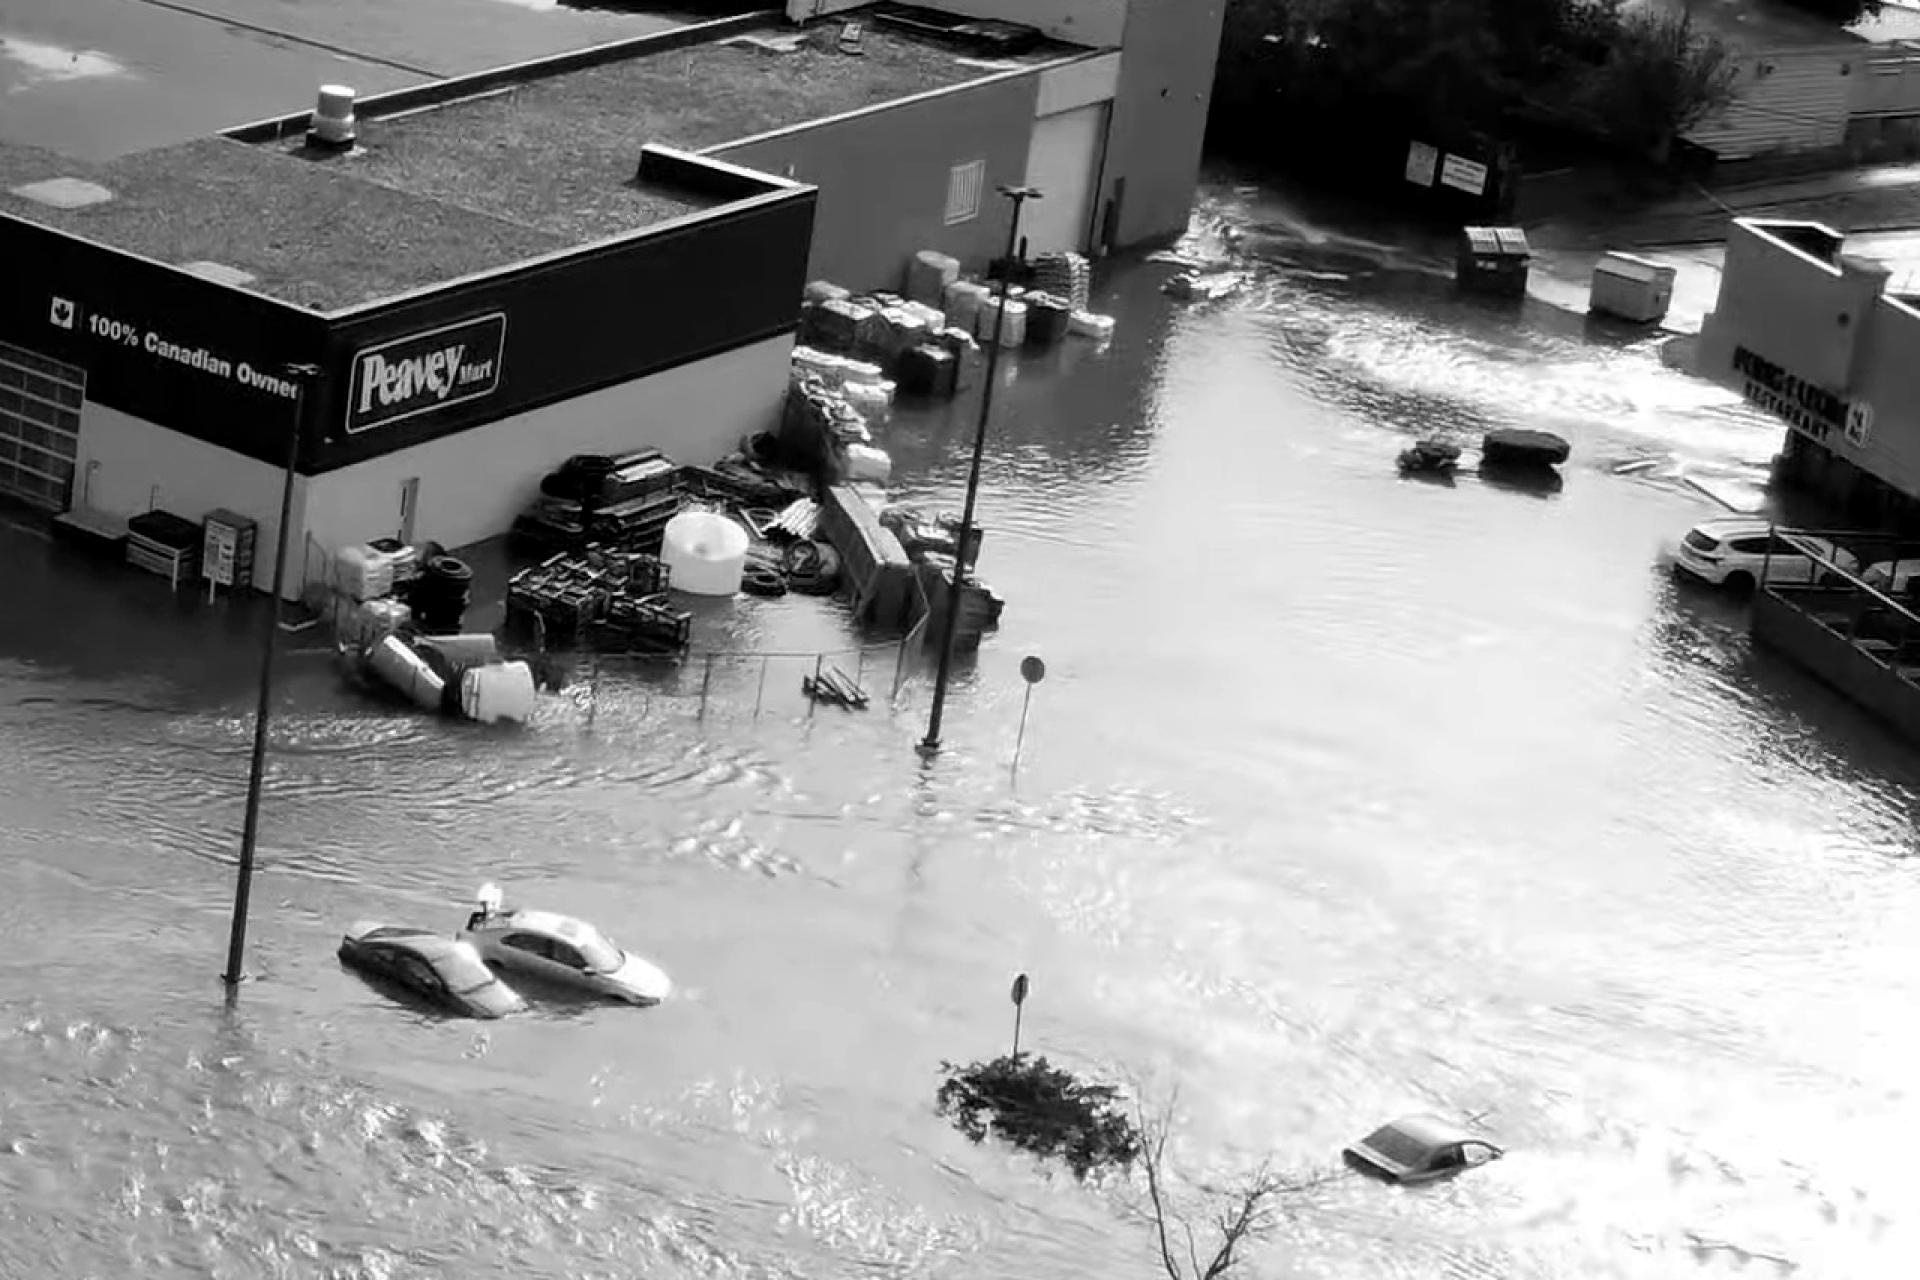Vehicle: (459, 876, 675, 1011), (337, 910, 526, 1026), (1664, 510, 1864, 601), (1339, 1106, 1504, 1194)
